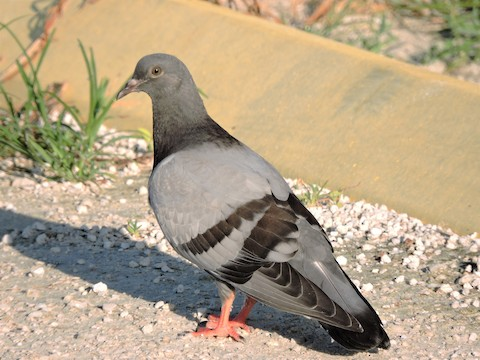pigeon: (115, 50, 395, 354)
